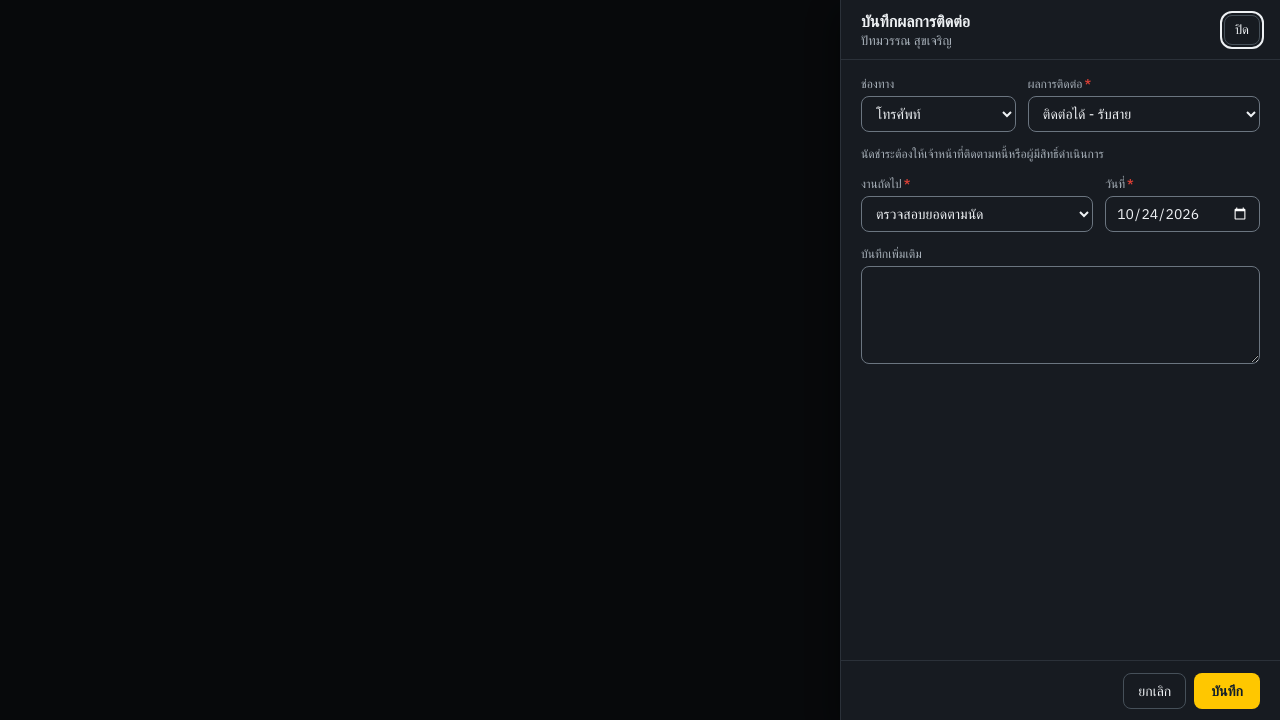
Test: the contact drawer promise fields (F01, F01c) › switches OPS to an allowed LINE result and saves O&M contact without a promise
Later steps or results of the test are not shown.
Step 1. Select "LINE" in the dropdown labelled "ช่องทาง" → (938, 114), box [861,96,1016,132]
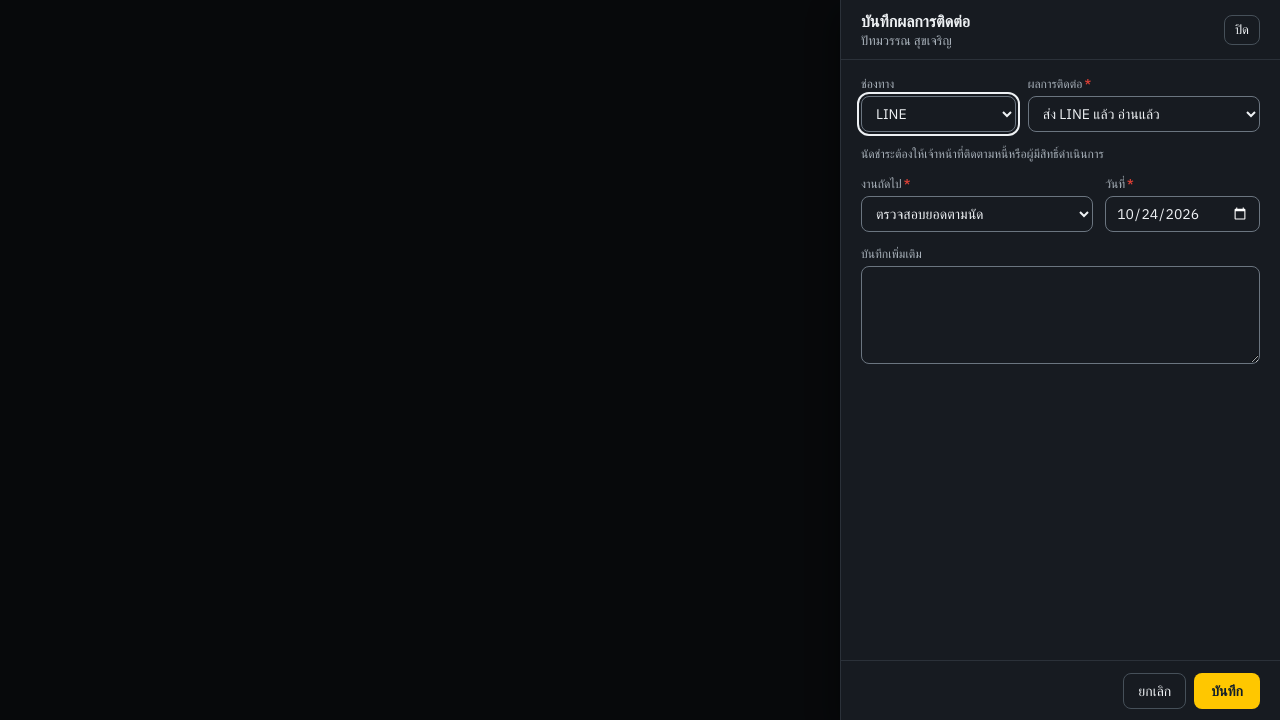
Expected: the dropdown labelled "ผลการติดต่อ*" shows "ส่ง LINE แล้ว อ่านแล้ว", [1028,96,1260,132]
